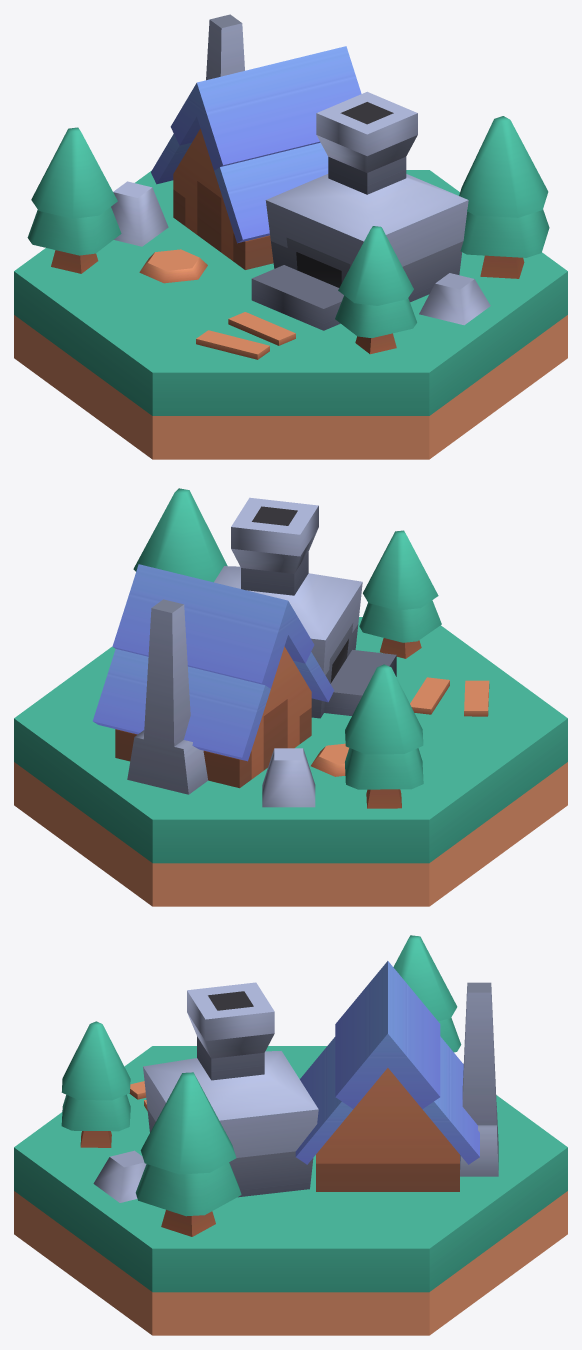
File: kenney-hexagon-building-smelter.glb
3 views of the same model, one above another, from view 1: azimuth 30°, elevation 25°; view 2: azimuth 150°, elevation 25°; view 3: azimuth 270°, elevation 25° (orthographic).
Visible parts, largest first — view 1: building_smelter; view 2: building_smelter; view 3: building_smelter.
Boxes of the visible parts, x1,y1,x2,y2 form: building_smelter: (14,14,567,459); building_smelter: (14,488,567,906); building_smelter: (14,935,567,1335).
Size of the model in its own units: 1 by 0.6 by 1.15.
Materials: 1 (1 with a texture image).
